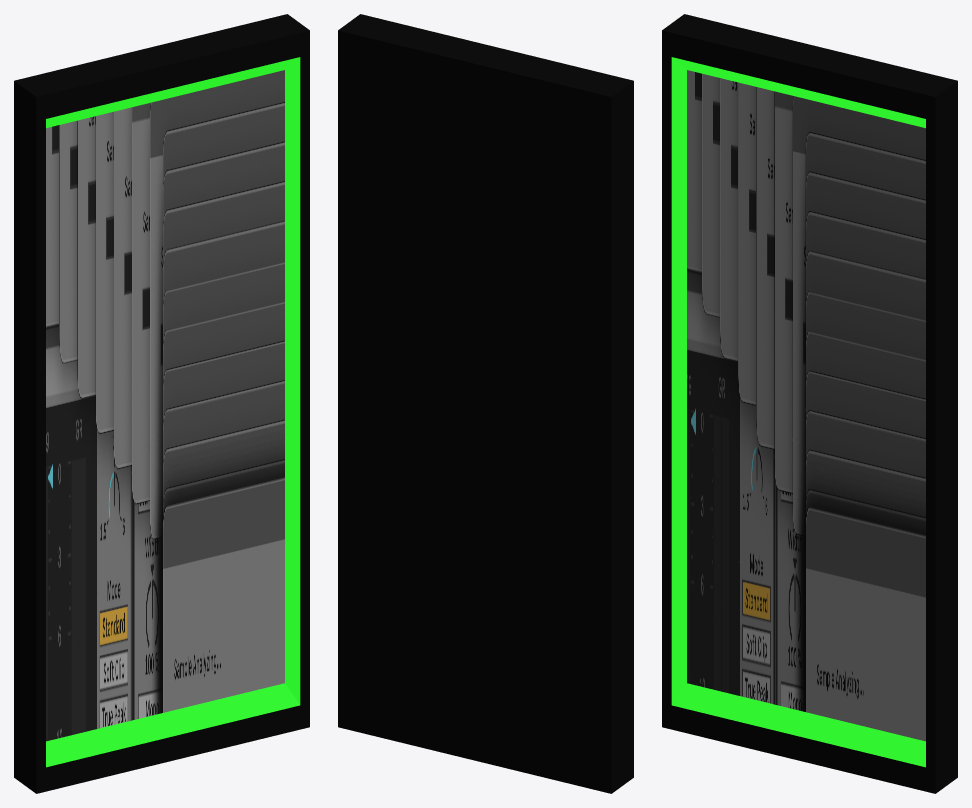
The model's file is PictureFrame6.glb.
3 renders of one model, left to right at view 1: azimuth 30°, elevation 25°; view 2: azimuth 150°, elevation 25°; view 3: azimuth 330°, elevation 25°, orthographic.
Visible parts, largest first — view 1: Cube.133; view 2: Cube.133; view 3: Cube.133.
Part boxes in pixels (bbox=[...]): Cube.133: bbox=[14, 14, 309, 793]; Cube.133: bbox=[338, 14, 633, 793]; Cube.133: bbox=[662, 14, 957, 793].
Bounding box in the file's own units: 2.94 × 7.16 × 0.4176.
Materials: 3 (1 with a texture image).
